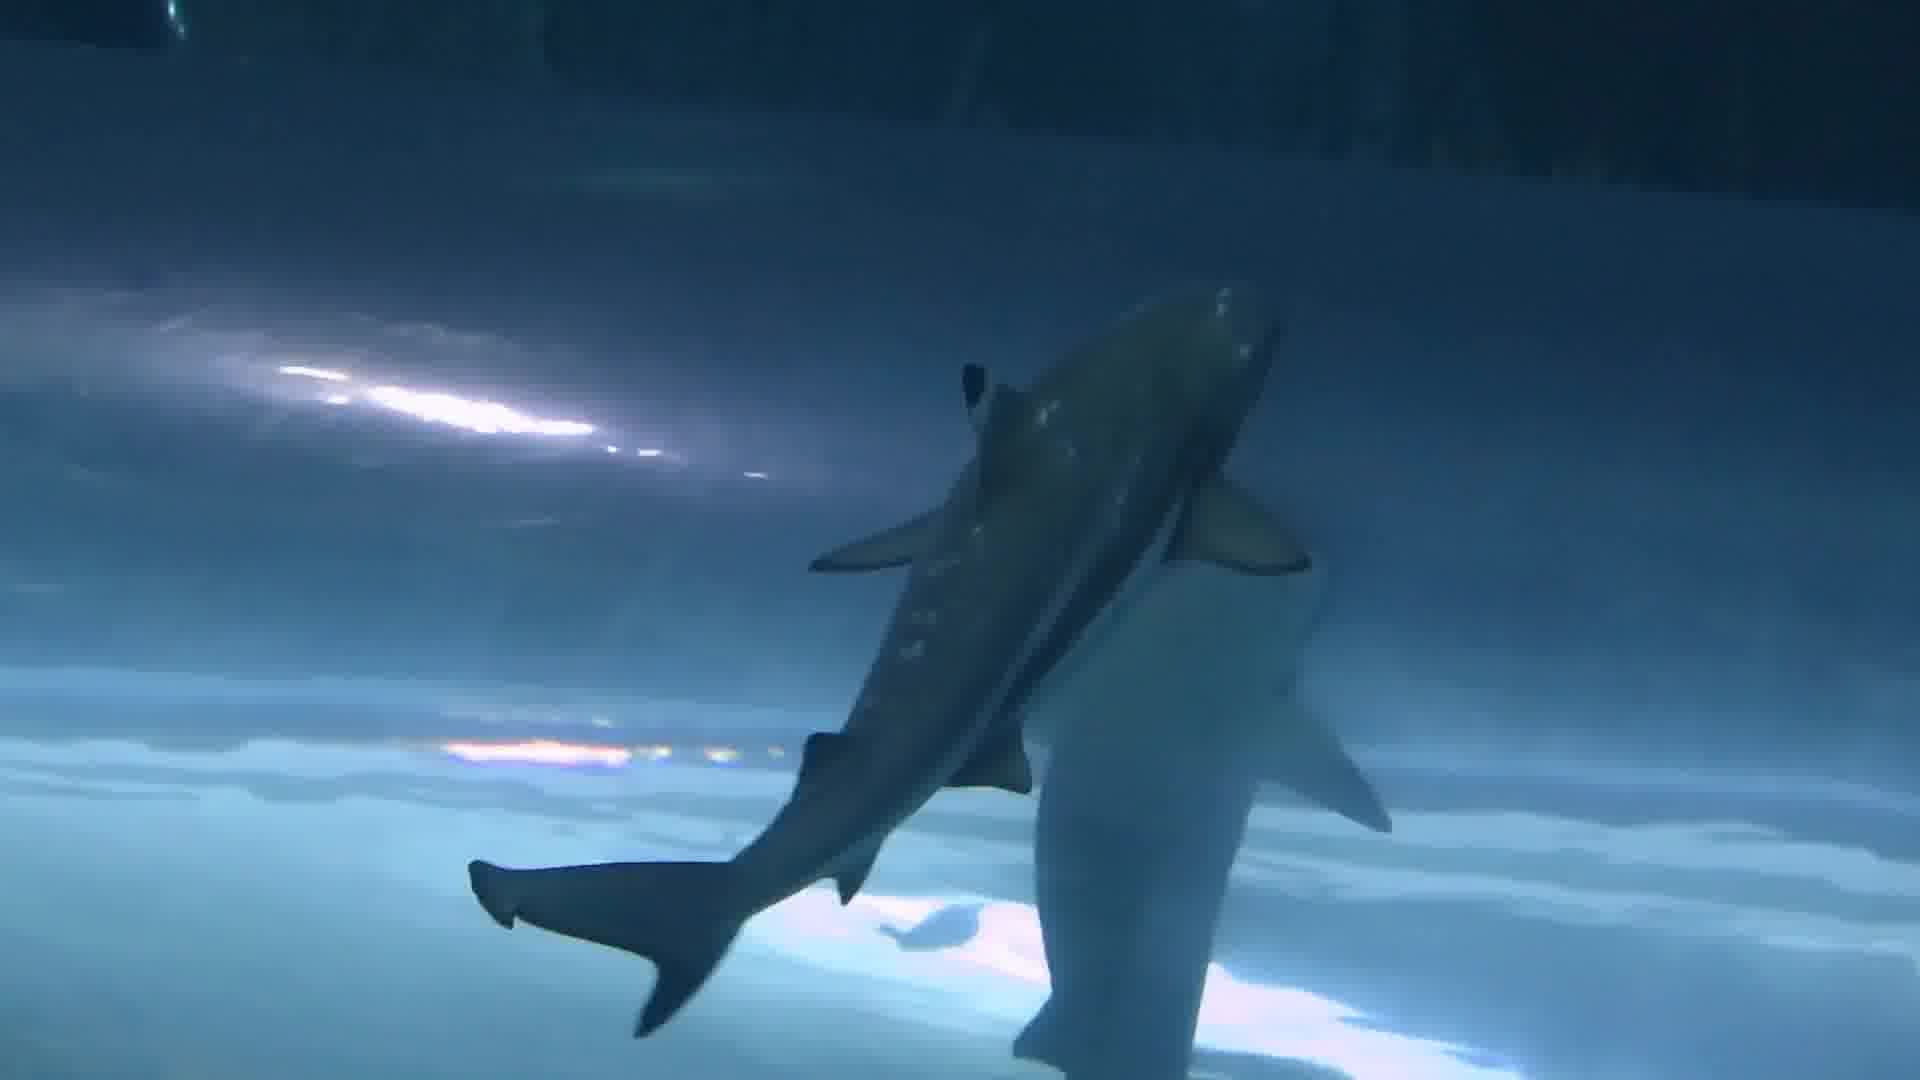Carcharhinus melanopterus: (443, 208, 1374, 1080)
